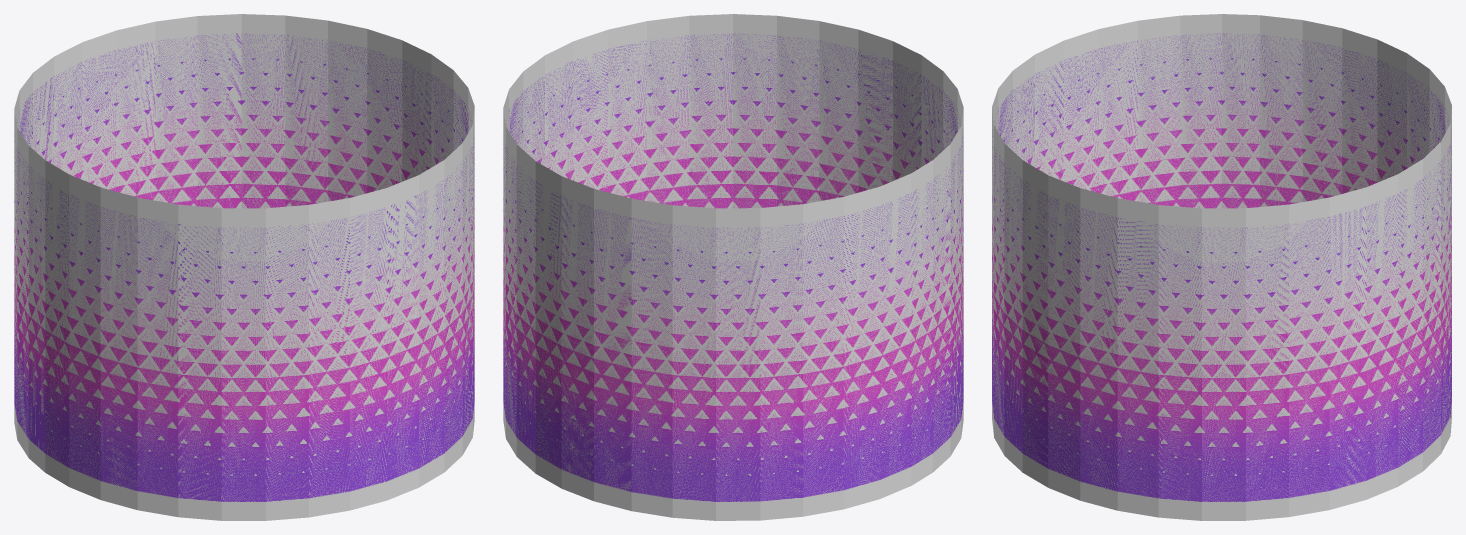
Rendered from bubble-v12.fbx.
The picture shows the model from 3 angles, left to right: view 1: azimuth 30°, elevation 25°; view 2: azimuth 150°, elevation 25°; view 3: azimuth 270°, elevation 25°; orthographic projection.
Visible parts, largest first — view 1: Plane.001; view 2: Plane.001; view 3: Plane.001.
Part boxes in pixels (box(x1,y1,x2,y2)): Plane.001: box(14, 14, 474, 520); Plane.001: box(503, 14, 963, 520); Plane.001: box(992, 14, 1451, 520).
Bounding box in the file's own units: 100 × 75 × 100.
1 material, 1 textured.
